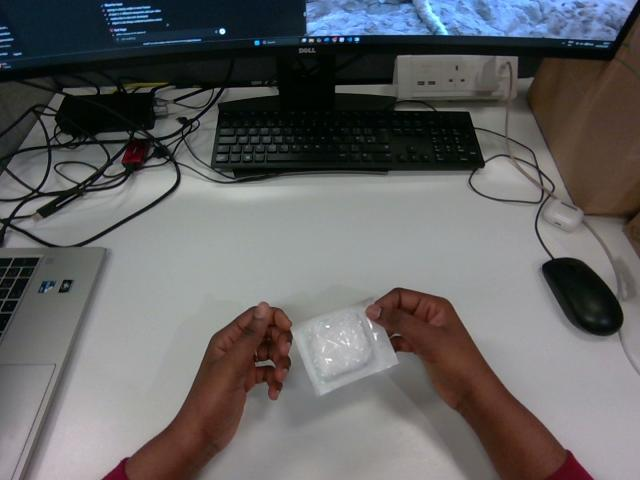gauze: (292, 299, 397, 394)
